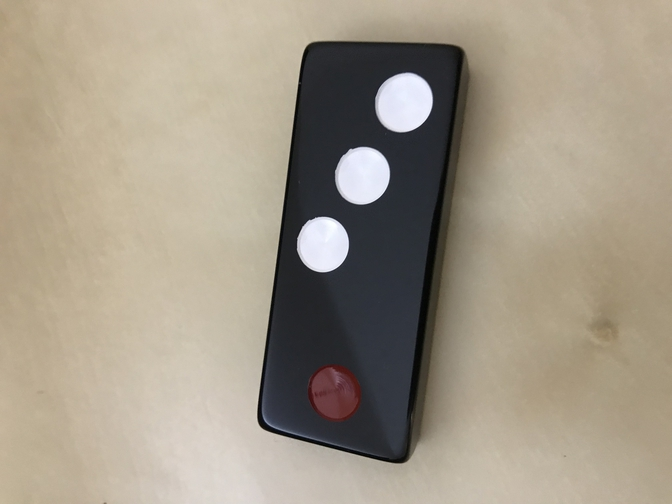goose: (257, 41, 469, 464)
